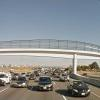Bridge: (4, 26, 100, 62)
